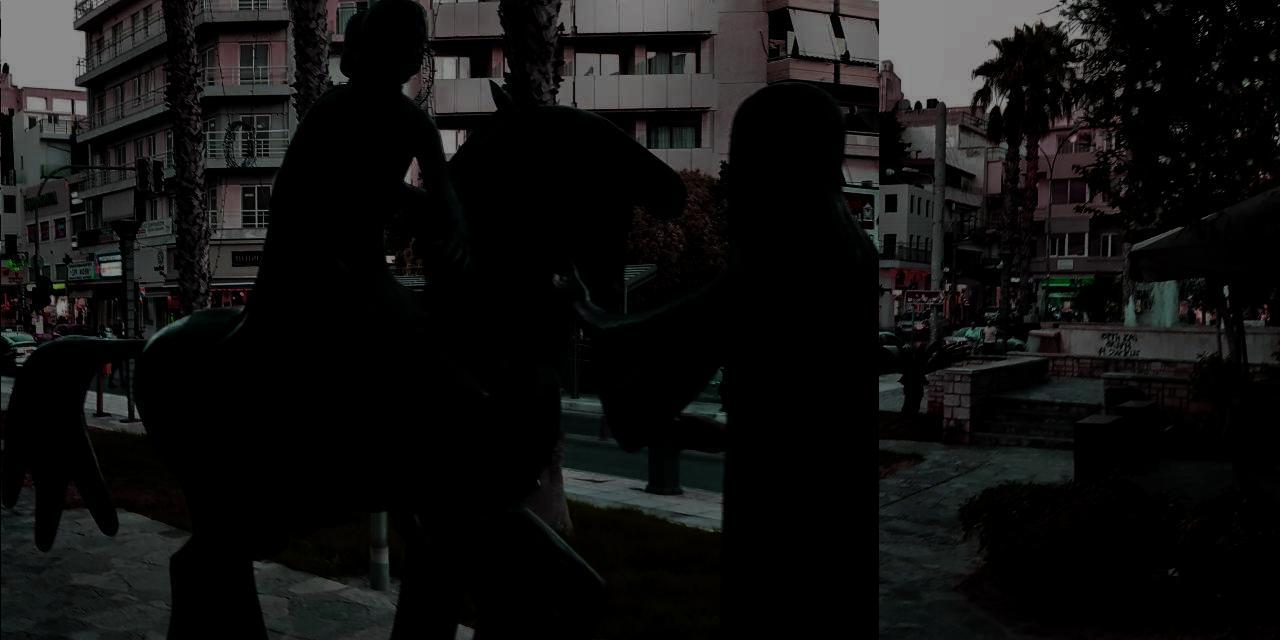Aretousa: (2, 1, 880, 640)
